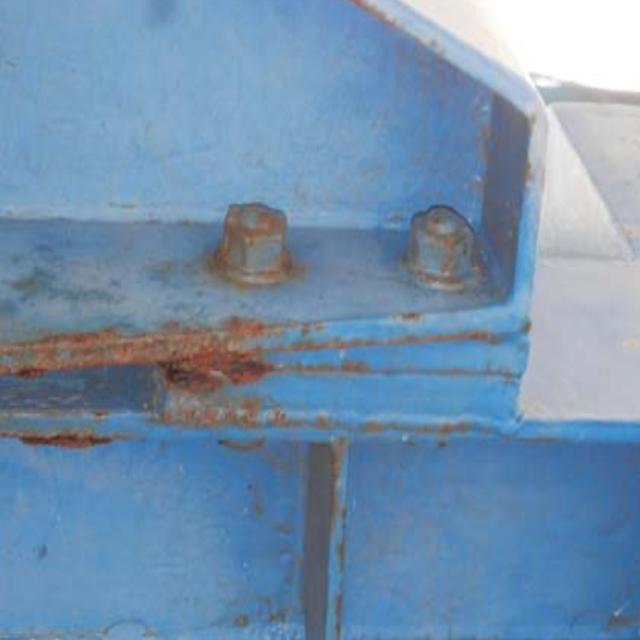corrosion: (22, 301, 252, 466), (316, 434, 374, 640), (401, 196, 496, 310), (207, 183, 310, 283)
